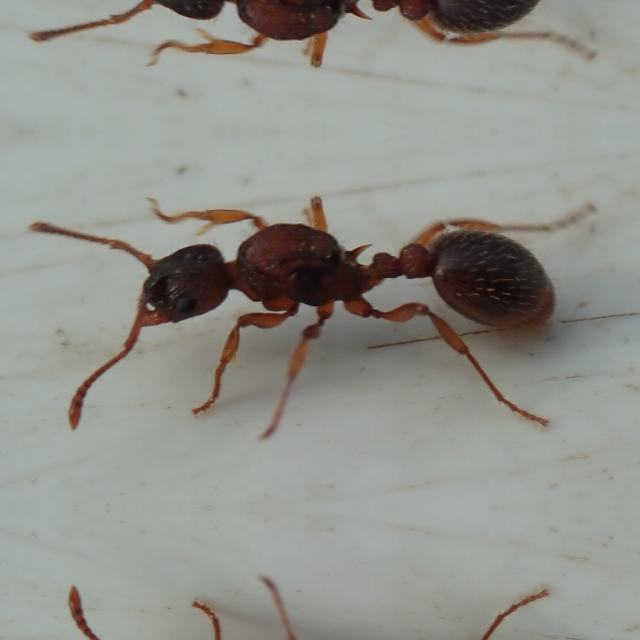Myrmica: (51, 166, 576, 428), (49, 0, 574, 94), (49, 586, 574, 640)
